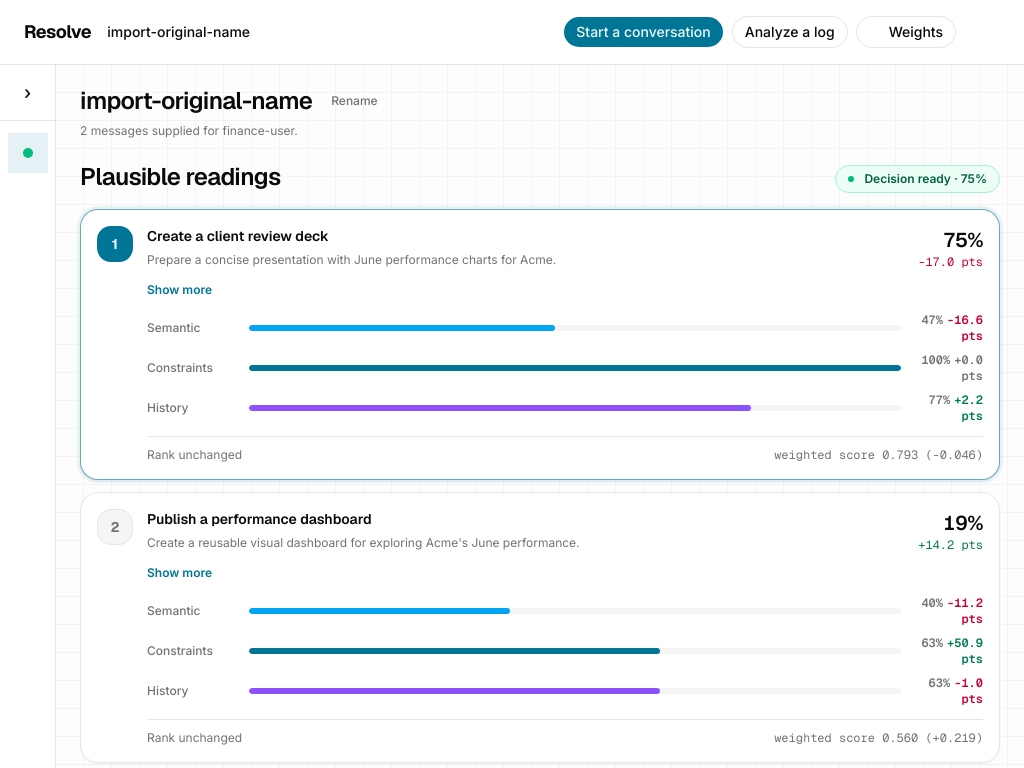
Test case: IntentRanker › allows renaming an active conversation on the workbench
This screenshot has width=1024, height=768.
Expected: the heading "import-original-name" is shown, [80,85,312,117]
Click the button named "Expand task sidebar" at [28, 92], box [12,76,44,108]
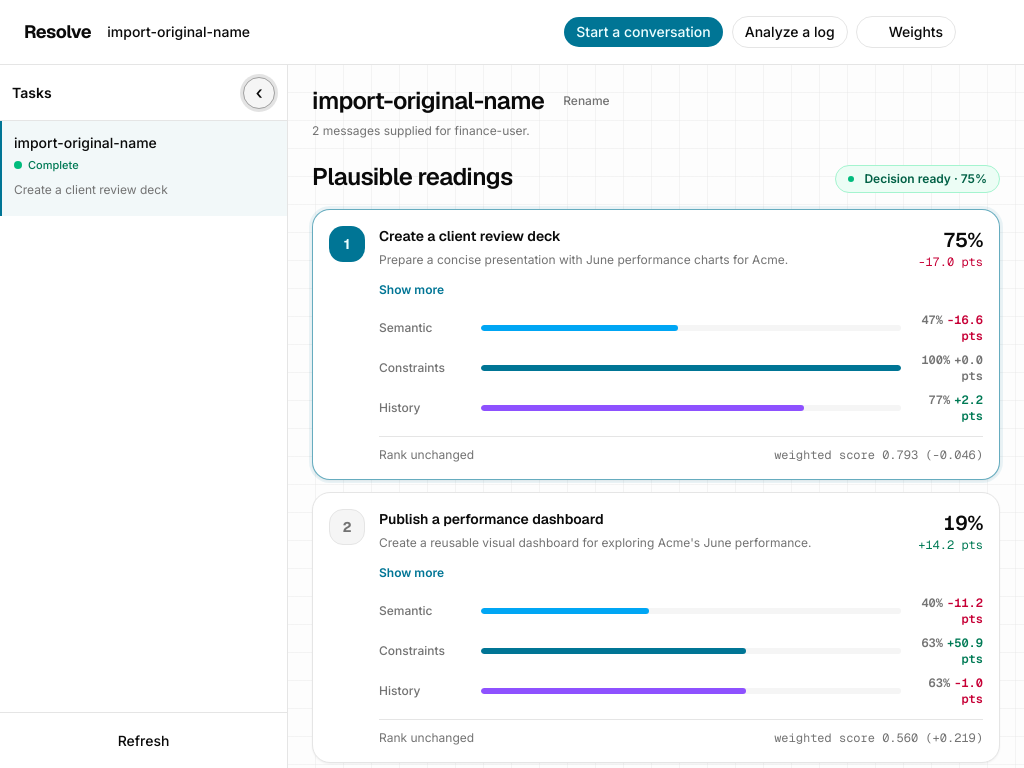
Expected: the text "import-original-name" below "Tasks" is shown, [14,134,157,151]
Click the button with aria-label "Rename conversation" at [586, 101], box [552,89,621,113]
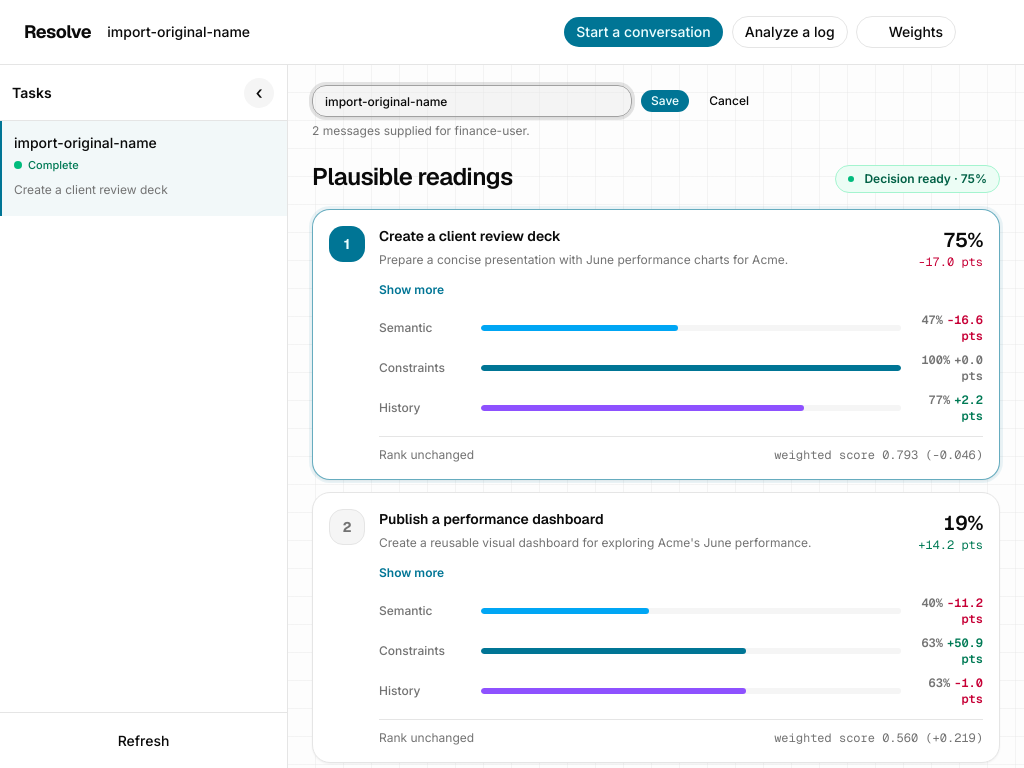
Replace the text in the field named "Edit conversation name" with "my-renamed-task" at [472, 101], box [312,85,632,117]
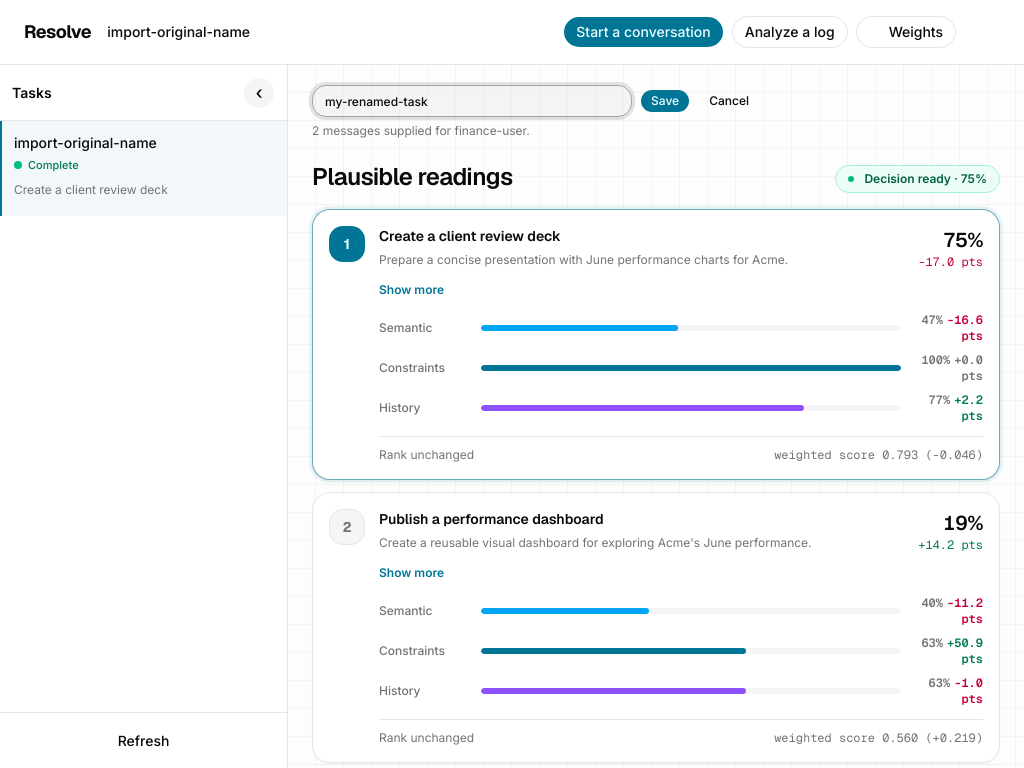
Click the button with aria-label "Save name" at [665, 101], box [640,89,690,113]
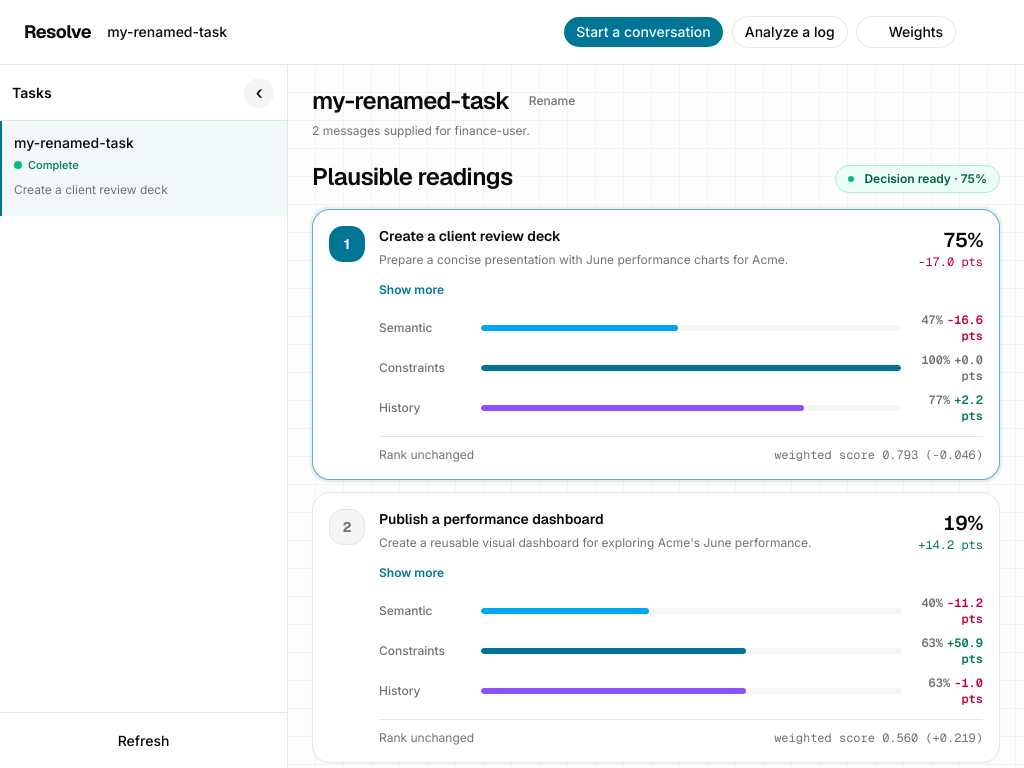
Expected: the heading "my-renamed-task" is shown, [312,85,510,117]
Expected: the text "my-renamed-task" below "Tasks" is shown, [14,134,134,151]
Expected: the text "import-original-name" is gone
